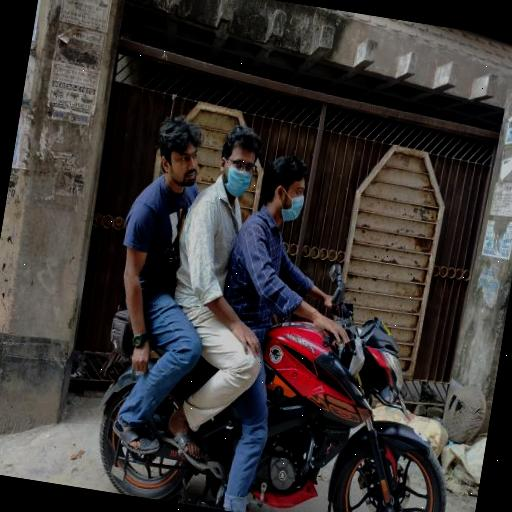no helmet: (246, 132, 334, 262)
triple riding: (71, 85, 512, 512)
